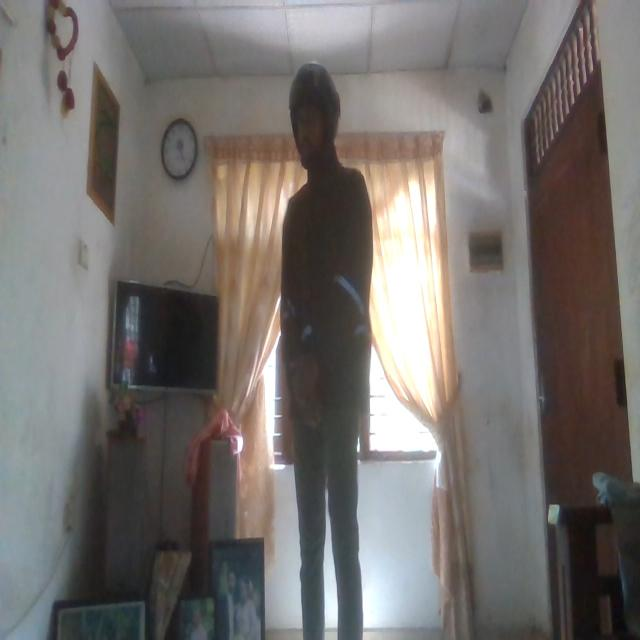Helmet_Wearer: (287, 67, 344, 162)
Jacket_Wearer: (275, 156, 377, 456)
Person: (268, 67, 375, 640)
